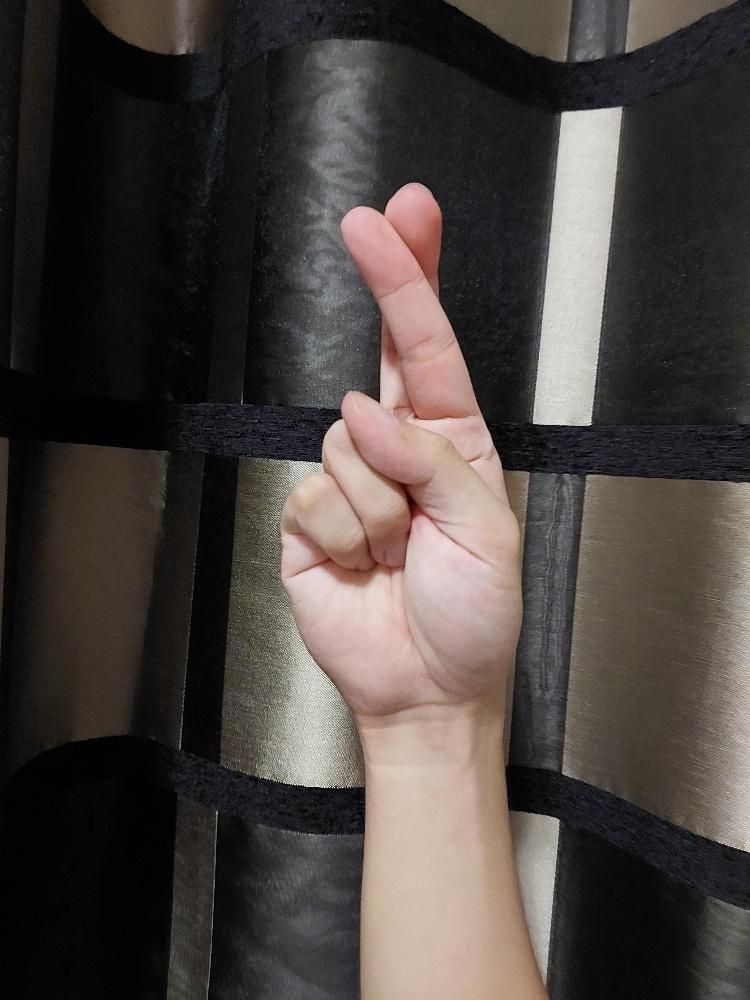r: (275, 179, 525, 715)
